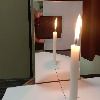fire: (75, 14, 81, 46)
